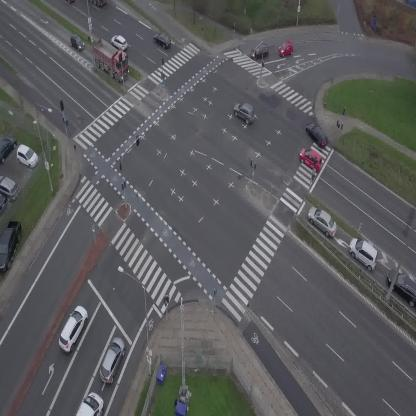car: (53, 303, 92, 354), (96, 335, 130, 386), (343, 234, 384, 272), (303, 203, 343, 240), (302, 119, 333, 150), (296, 144, 328, 174), (230, 99, 260, 126), (65, 32, 87, 54), (151, 29, 172, 51), (109, 32, 130, 53), (276, 41, 295, 57), (249, 44, 269, 58)
lorry: (83, 33, 138, 85), (75, 392, 103, 416)
